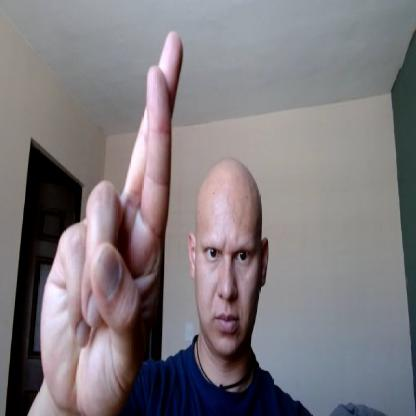R: (38, 31, 183, 413)
